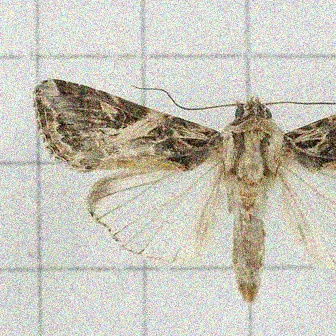Spodoptera litura: (32, 78, 336, 303)
